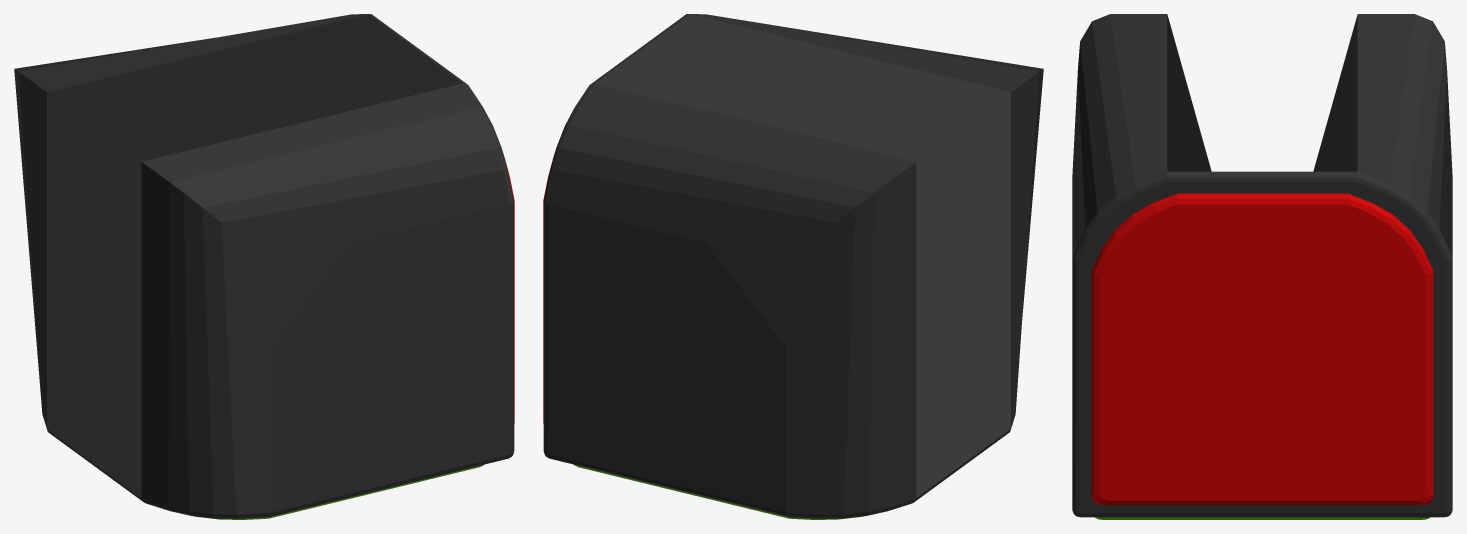
3 views of the same model, side by side, from view 1: azimuth 30°, elevation 25°; view 2: azimuth 150°, elevation 25°; view 3: azimuth 270°, elevation 25° (orthographic).
Visible parts, largest first — view 1: Cube.012, Cube.049; view 2: Cube.012, Cube.049; view 3: Cube.041, Cube.012, Cube.049.
Boxes of the visible parts, x1,y1,x2,y2 form: Cube.012: (14,14,514,518); Cube.049: (193,464,483,519); Cube.012: (543,14,1043,518); Cube.049: (574,464,864,519); Cube.041: (1091,193,1433,504); Cube.012: (1072,14,1452,517); Cube.049: (1095,517,1429,519).
Size of the model in its own units: 206 by 206 by 200.
